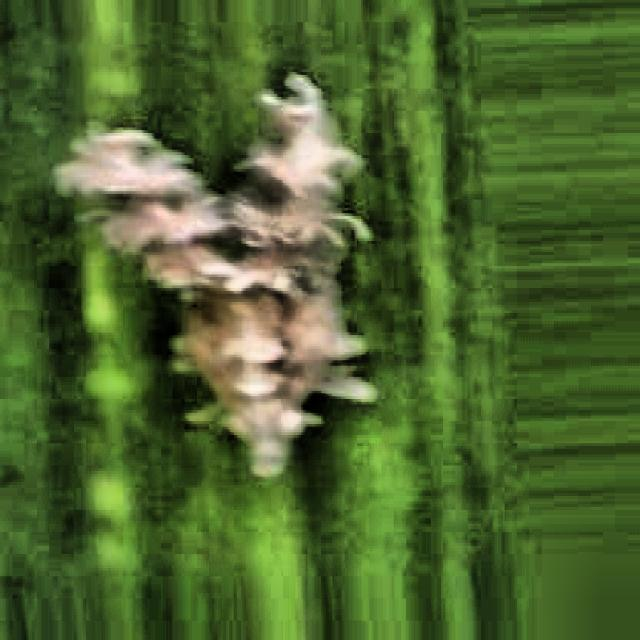Pyrilla-perpusilla: (20, 54, 475, 532)
